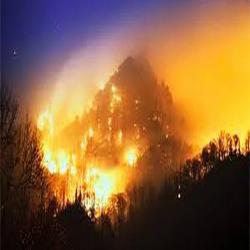fire: (87, 169, 119, 208), (46, 146, 74, 169)
